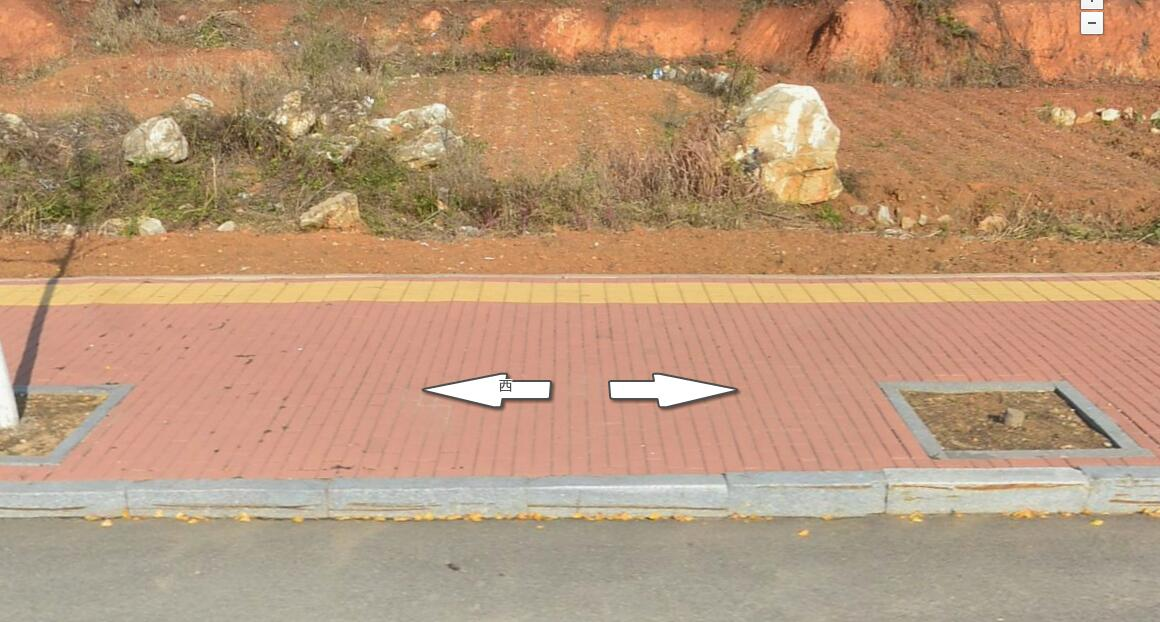side: (885, 466, 1089, 519), (526, 475, 728, 520), (331, 478, 529, 518), (726, 475, 889, 523), (122, 479, 332, 515)
